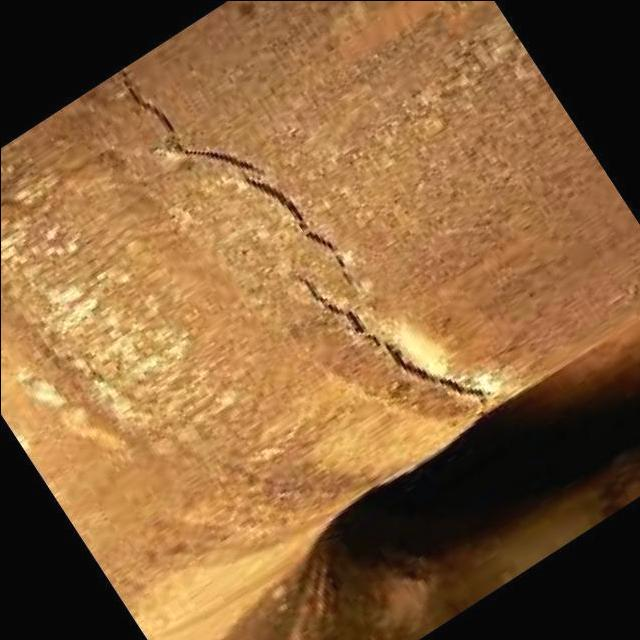defect: (107, 61, 361, 291), (279, 258, 493, 418)
